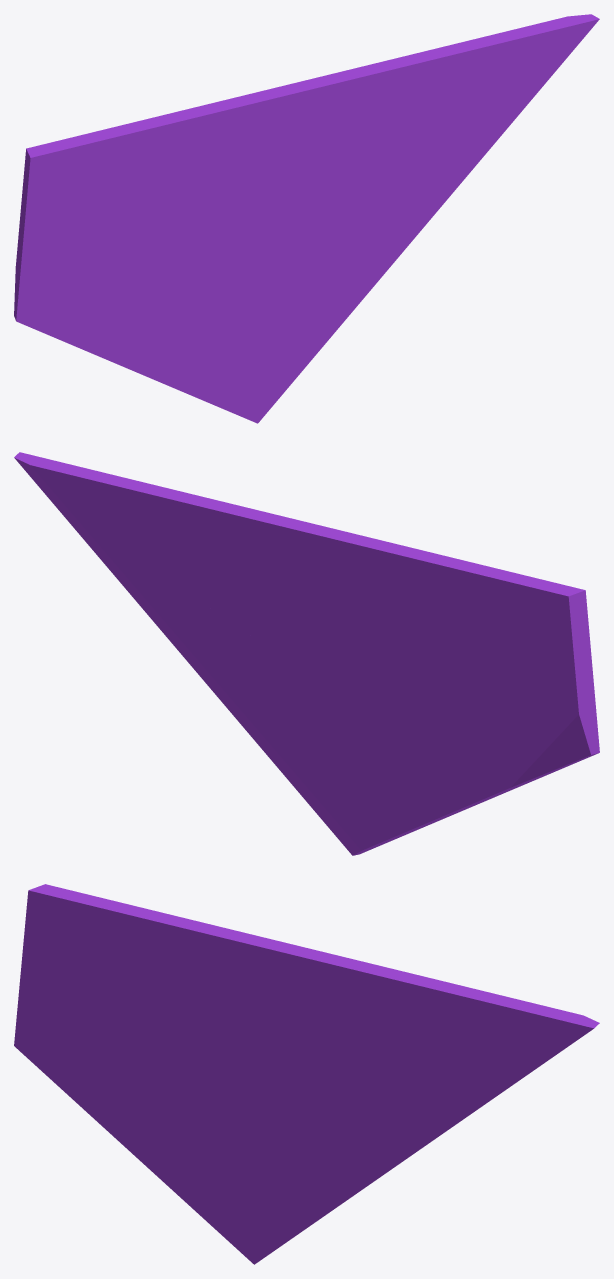
Rendered from Glass_8_3_chunks.fbx.
3 views of the same model, one above another, from view 1: azimuth 30°, elevation 25°; view 2: azimuth 150°, elevation 25°; view 3: azimuth 330°, elevation 25° (orthographic).
Parts seen in each view (by area): view 1: Glass_8_3_0, Glass_8_3_1, Glass_8_3_3, Glass_8_3_5, Glass_8_3_4, Glass_8_3_2; view 2: Glass_8_3_0, Glass_8_3_1, Glass_8_3_3, Glass_8_3_5, Glass_8_3_4, Glass_8_3_6; view 3: Glass_8_3_0, Glass_8_3_1, Glass_8_3_3, Glass_8_3_5, Glass_8_3_4, Glass_8_3_2.
Part boxes in pixels (x1=…): Glass_8_3_0: x1=14, y1=119, x2=206, y2=381; Glass_8_3_1: x1=158, y1=187, x2=457, y2=423; Glass_8_3_3: x1=148, y1=73, x2=362, y2=237; Glass_8_3_5: x1=335, y1=14, x2=599, y2=159; Glass_8_3_4: x1=304, y1=147, x2=480, y2=223; Glass_8_3_2: x1=202, y1=209, x2=246, y2=291; Glass_8_3_0: x1=374, y1=560, x2=599, y2=816; Glass_8_3_1: x1=156, y1=624, x2=457, y2=855; Glass_8_3_3: x1=247, y1=513, x2=462, y2=680; Glass_8_3_5: x1=14, y1=452, x2=270, y2=603; Glass_8_3_4: x1=135, y1=599, x2=286, y2=659; Glass_8_3_6: x1=196, y1=580, x2=296, y2=661; Glass_8_3_0: x1=14, y1=884, x2=202, y2=1173; Glass_8_3_1: x1=155, y1=1074, x2=452, y2=1264; Glass_8_3_3: x1=151, y1=913, x2=357, y2=1088; Glass_8_3_5: x1=342, y1=959, x2=599, y2=1110; Glass_8_3_4: x1=300, y1=1041, x2=475, y2=1126; Glass_8_3_2: x1=199, y1=1026, x2=242, y2=1107.
Size of the model in its own units: 852 by 448 by 27.2.
